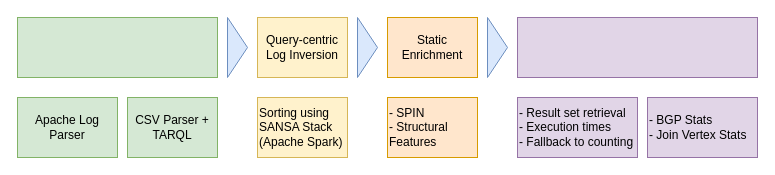
Image size: 775x175. Some labels were removed from this diagram. Each missing label, with the centre of its shape:
Benchmarking + Dynamic Enrichment: (637,47)
Log Parsing: (117,47)
